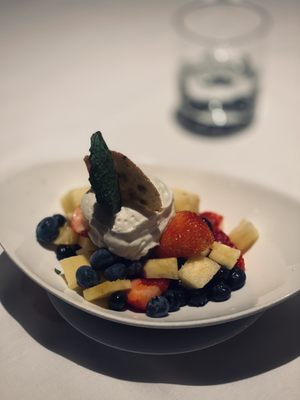pizza: (171, 1, 272, 136)
sushi: (1, 132, 298, 334)
